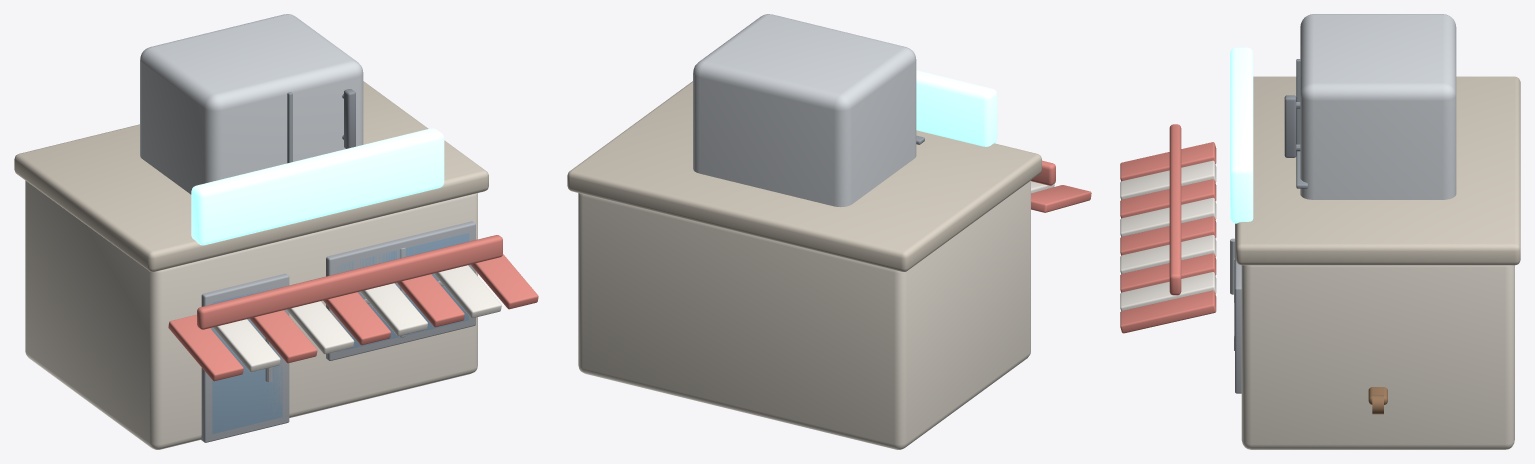
File: kitchen_set.glb
3 views of the same model, side by side, from view 1: azimuth 30°, elevation 25°; view 2: azimuth 150°, elevation 25°; view 3: azimuth 270°, elevation 25° (orthographic). The views are drawn at different scales.
Visible parts, largest first — view 1: mart, fridge; view 2: mart, fridge; view 3: mart, fridge, pan.
Boxes of the visible parts, left/top/right/bottom form: mart: left=14, top=81, right=538, bottom=449; fridge: left=140, top=14, right=363, bottom=194; mart: left=567, top=70, right=1091, bottom=449; fridge: left=693, top=14, right=924, bottom=207; mart: left=1120, top=47, right=1520, bottom=449; fridge: left=1284, top=14, right=1456, bottom=199; pan: left=1368, top=387, right=1387, bottom=414.
Bounding box in the file's own units: 2.25 × 1.84 × 2.05.
